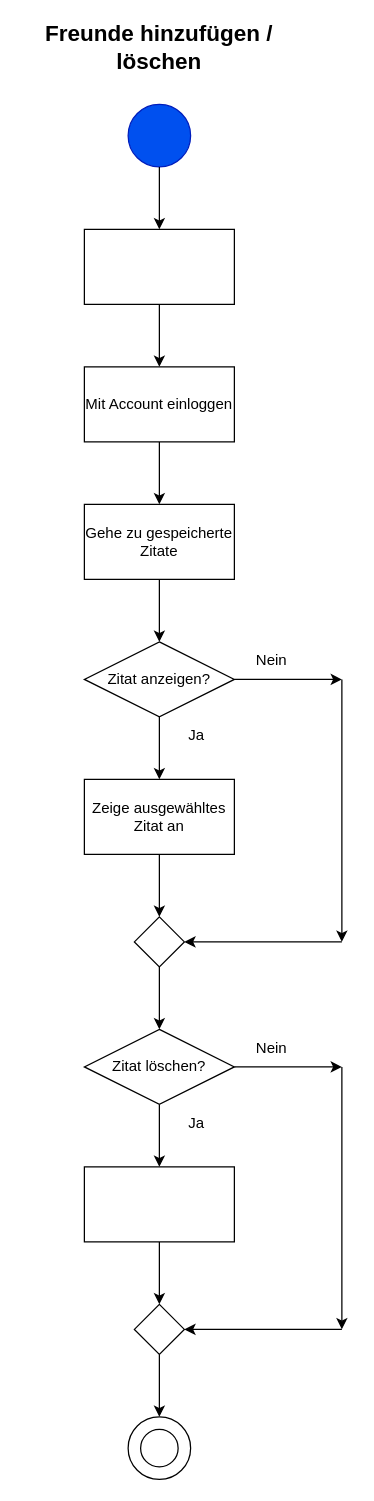
Image size: 374x1501. Some labels were removed from this diagram. The shapes that lost their labels are listed below. From the top down, each one's centre as x and y in pixels, then its label:
At point 158,266: "Öffne Daily Quotes Website / App".
At point 158,1204: "Lösche Zitat aus Nutzerprofil".
